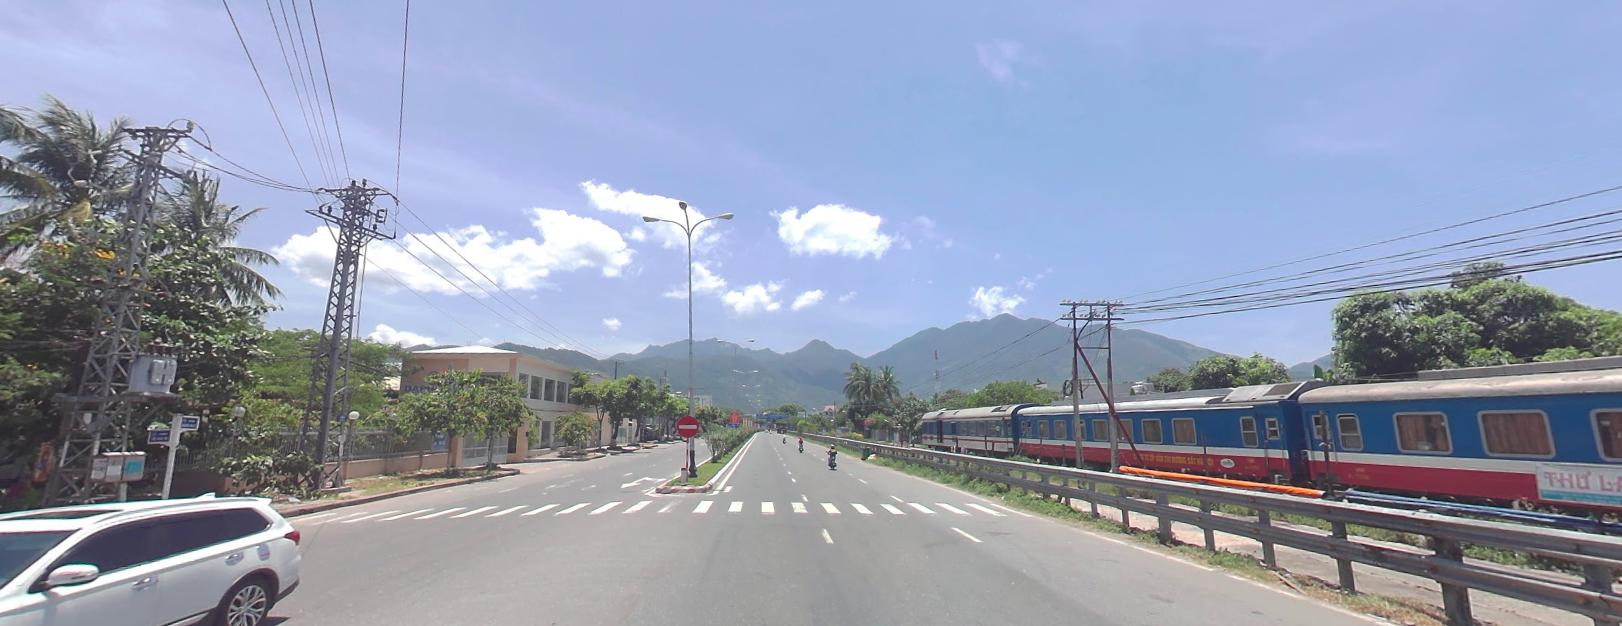Cam nguoc chieu: (676, 414, 698, 435)
